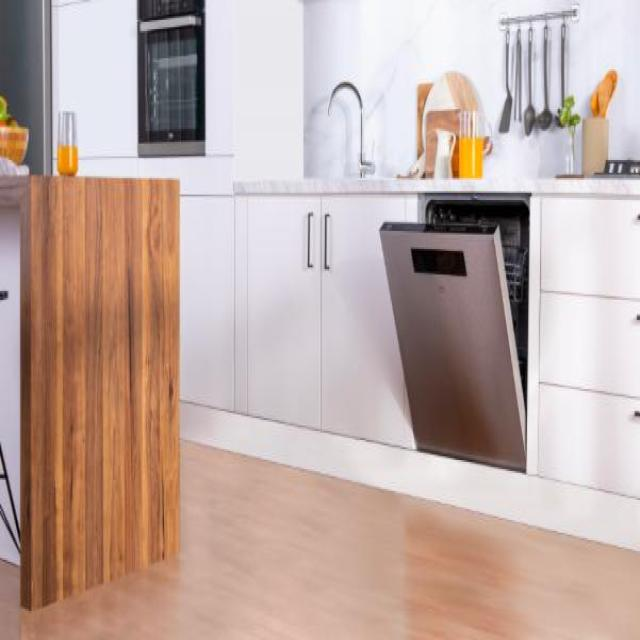dishwasher: (377, 187, 532, 475)
